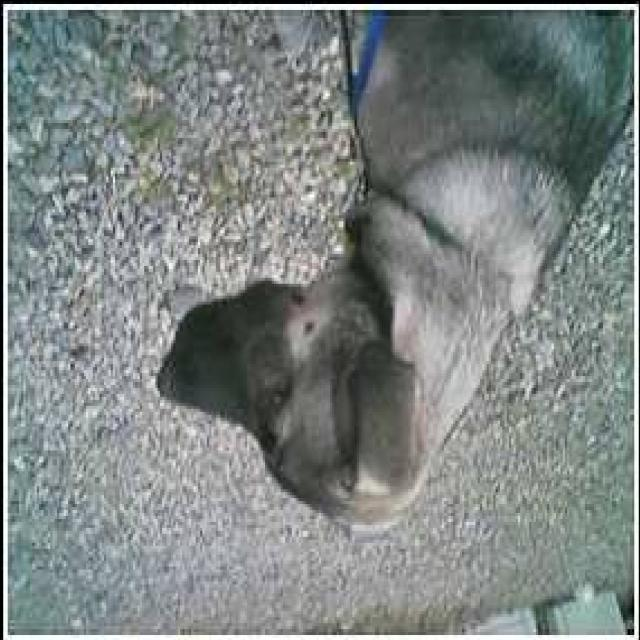dog: (140, 0, 640, 536)
